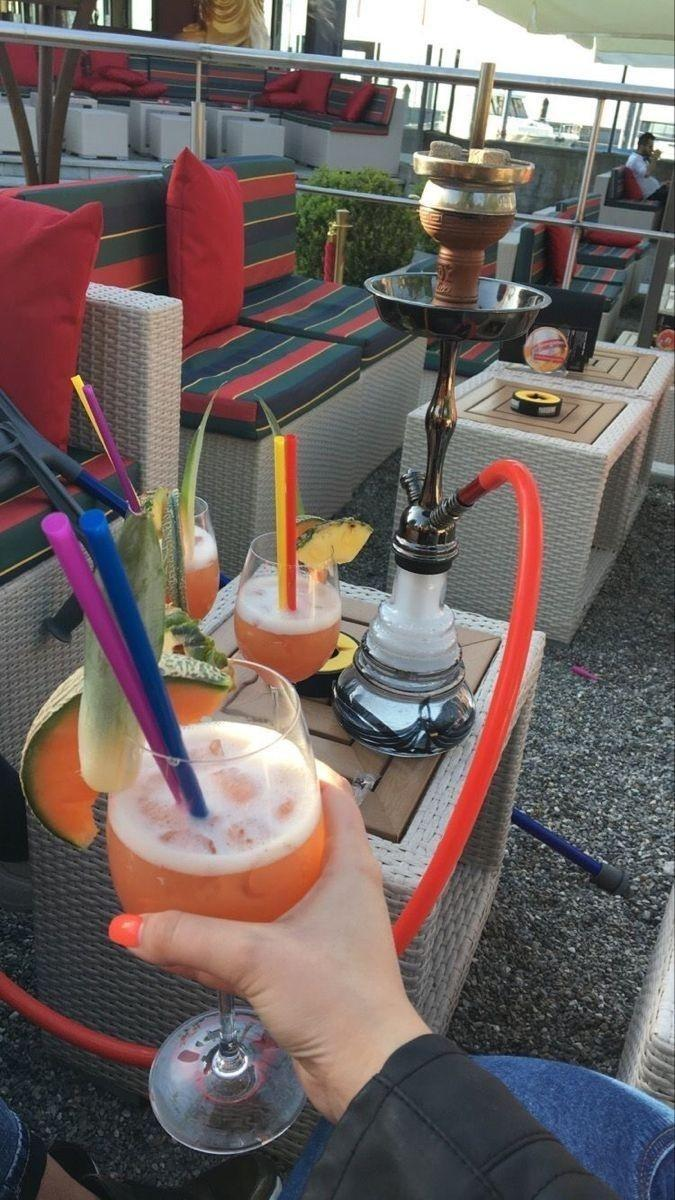glass-wine: (103, 654, 345, 1157), (231, 524, 346, 782)
